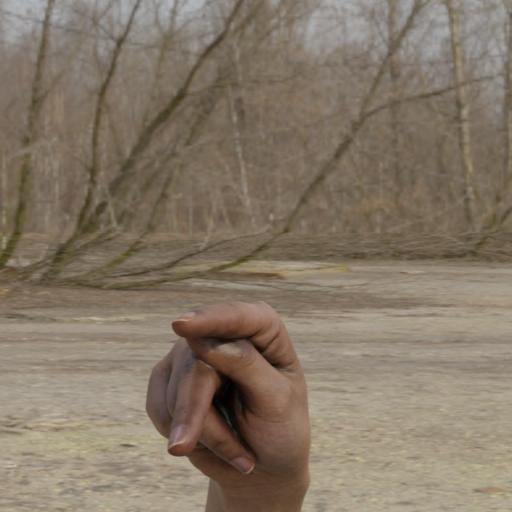P: (122, 281, 333, 510)
